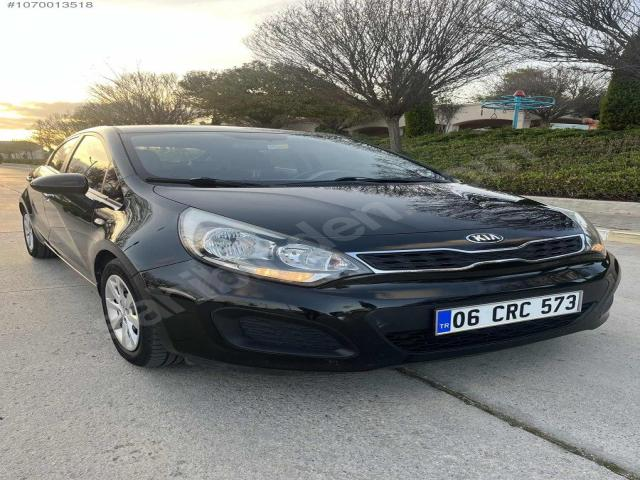plaka: (435, 291, 582, 335)
